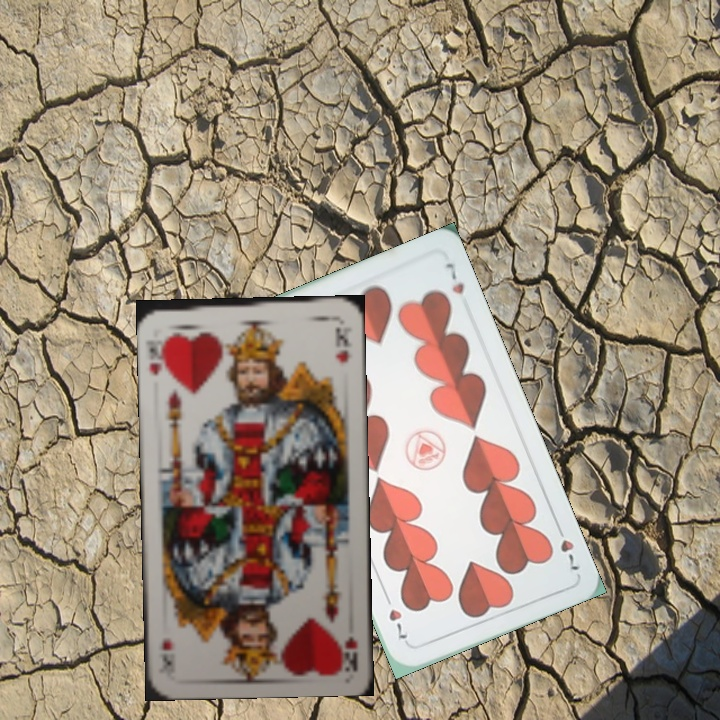H7: (552, 520, 582, 573)
HK: (144, 333, 171, 378), (337, 632, 361, 669)
